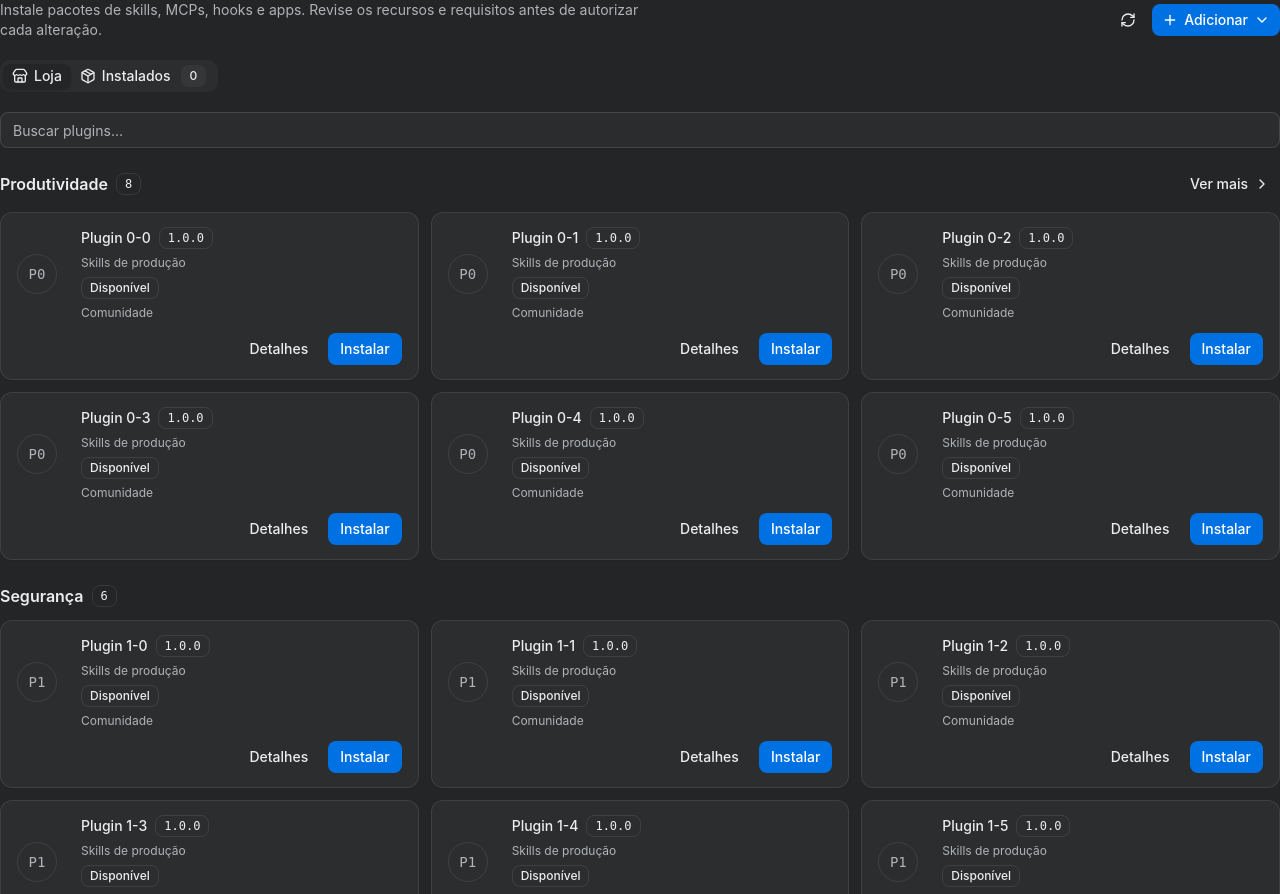
Test case: PluginsSettings › previews six plugins per category and opens only the chosen category with a way back
This screenshot has width=1280, height=894.
Check: the number of buttons "Instalar " is 6, box [328,333,402,365]; [759,333,832,365]; [1190,333,1263,365]; [328,513,402,545]; [759,513,832,545]; [1190,513,1263,545]
Click the button with aria-label "Ver mais em Produtividade".
click(1230, 184)  # box [1180,168,1279,200]
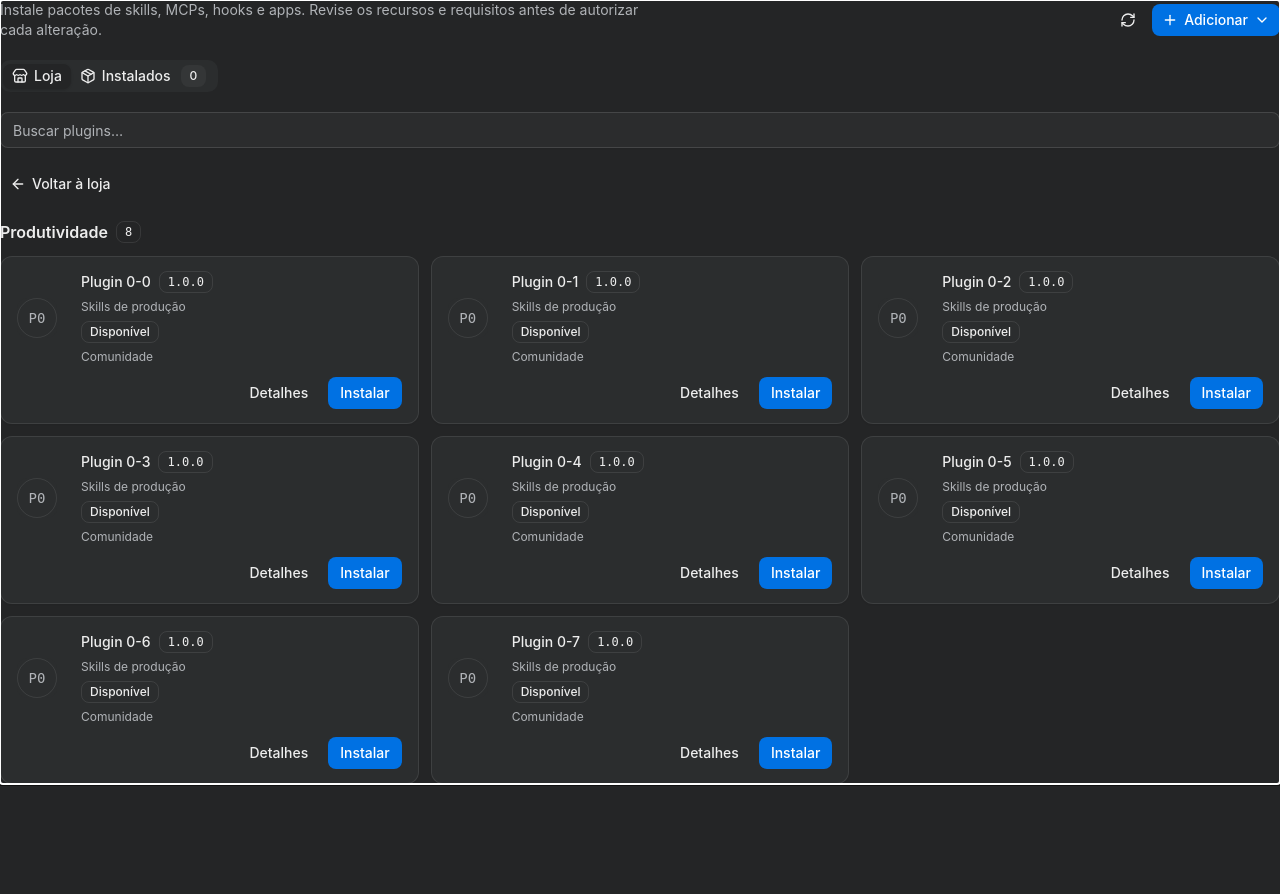
Check: the element "Mais plugins" is not shown
Check: the number of buttons "Instalar " is 8
Check: the heading "Segurança" is gone
Click the button "Voltar à loja".
click(60, 184)  # box [0,168,120,200]
(page scrolled)
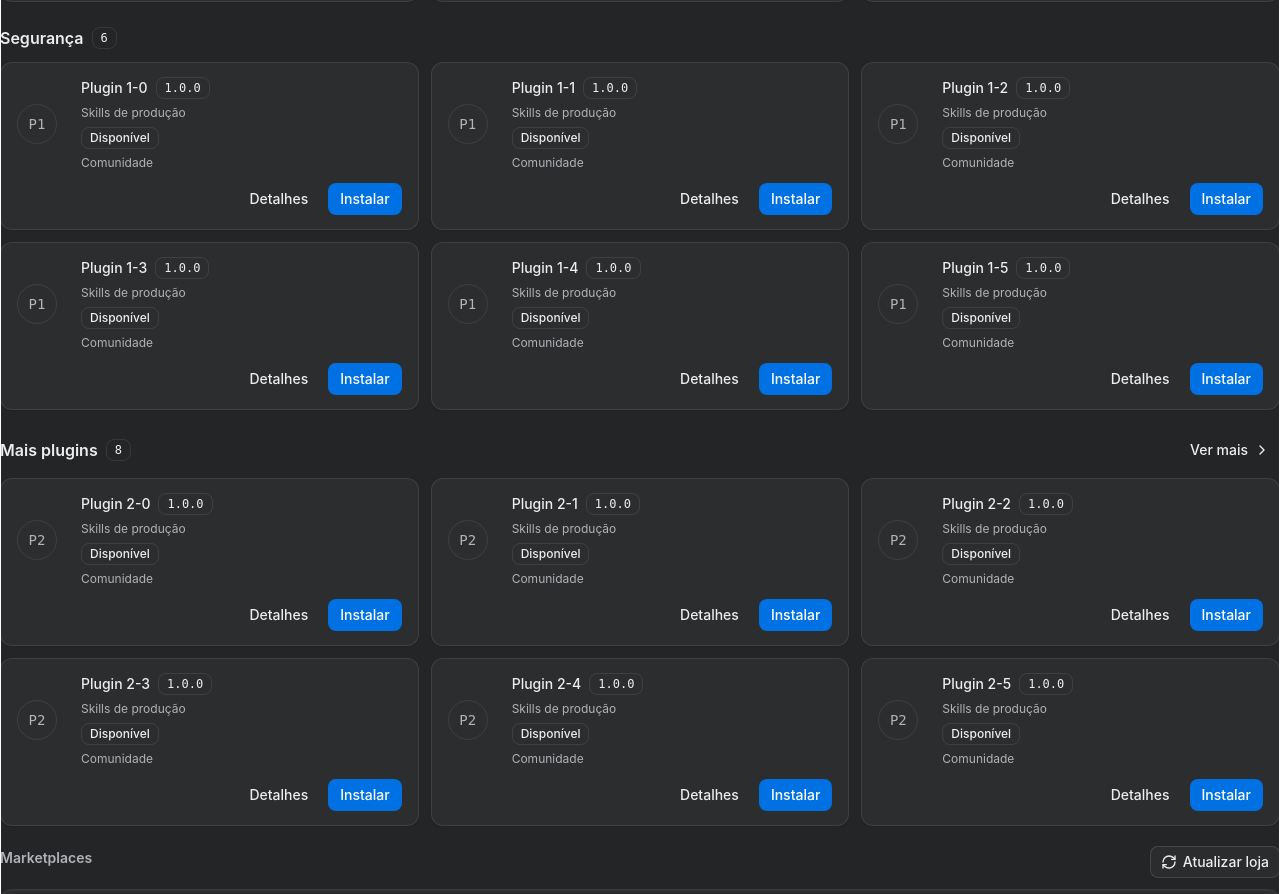
Click the button with aria-label "Ver mais em Mais plugins".
click(1230, 450)  # box [1180,434,1279,466]
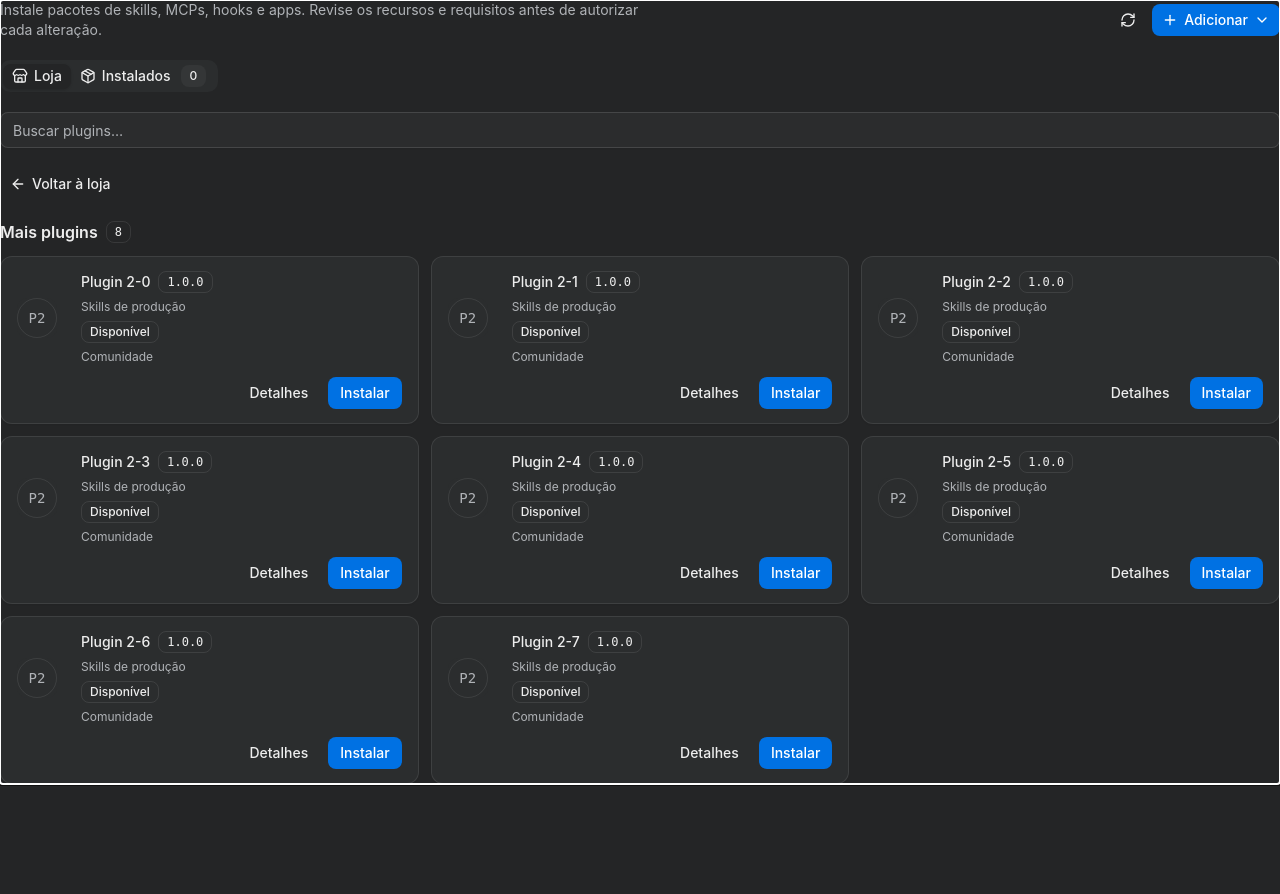
Check: the number of buttons "Instalar " is 8
